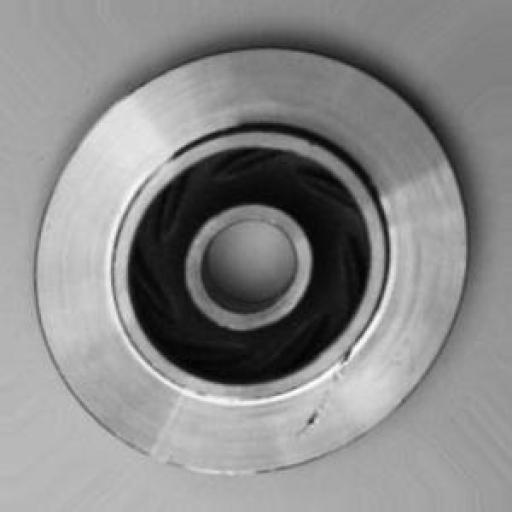defect: (296, 338, 372, 462)
